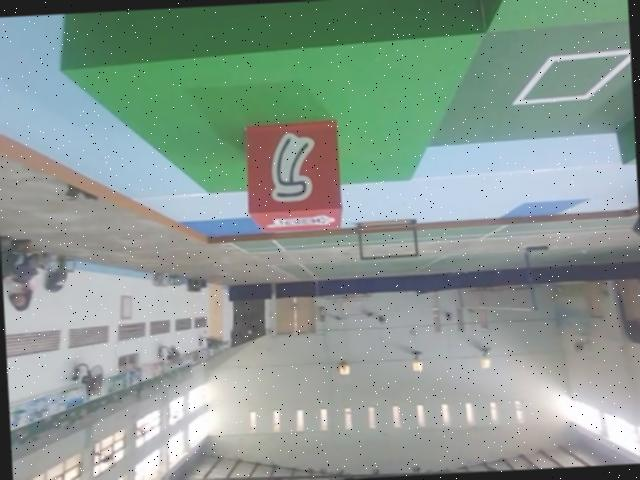R2 Fake: (239, 119, 345, 234)
